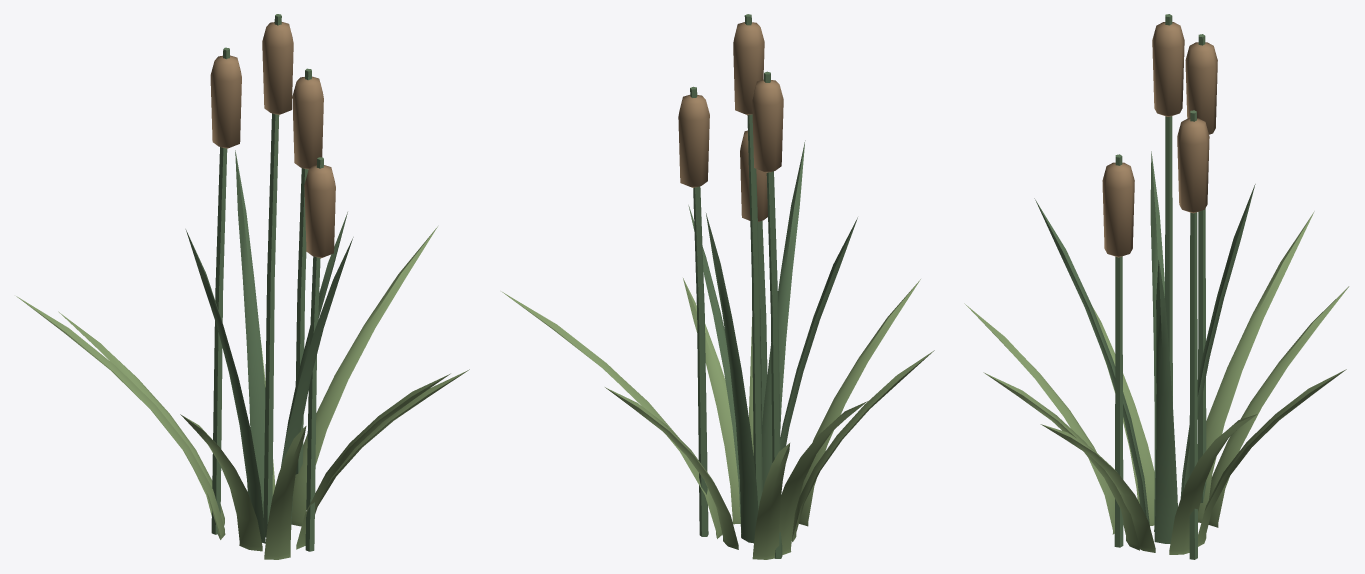
File: reed.glb
3 views of the same model, side by side, from view 1: azimuth 30°, elevation 25°; view 2: azimuth 150°, elevation 25°; view 3: azimuth 270°, elevation 25° (orthographic).
Parts seen in each view (by area): view 1: ReedShadow, ReedLeaf, FlowersSeedHead; view 2: ReedShadow, ReedLeaf, FlowersSeedHead; view 3: ReedShadow, ReedLeaf, FlowersSeedHead.
Part boxes in pixels (x1,y1,x2,y2): ReedShadow: [185, 14, 353, 551]; ReedLeaf: [16, 226, 469, 559]; FlowersSeedHead: [210, 22, 335, 258]; ReedShadow: [688, 14, 857, 558]; ReedLeaf: [501, 278, 934, 559]; FlowersSeedHead: [678, 22, 783, 221]; ReedShadow: [1034, 14, 1255, 559]; ReedLeaf: [964, 211, 1349, 554]; FlowersSeedHead: [1102, 22, 1217, 257].
Size of the model in its own units: 1.12 by 1.4 by 0.9309.
